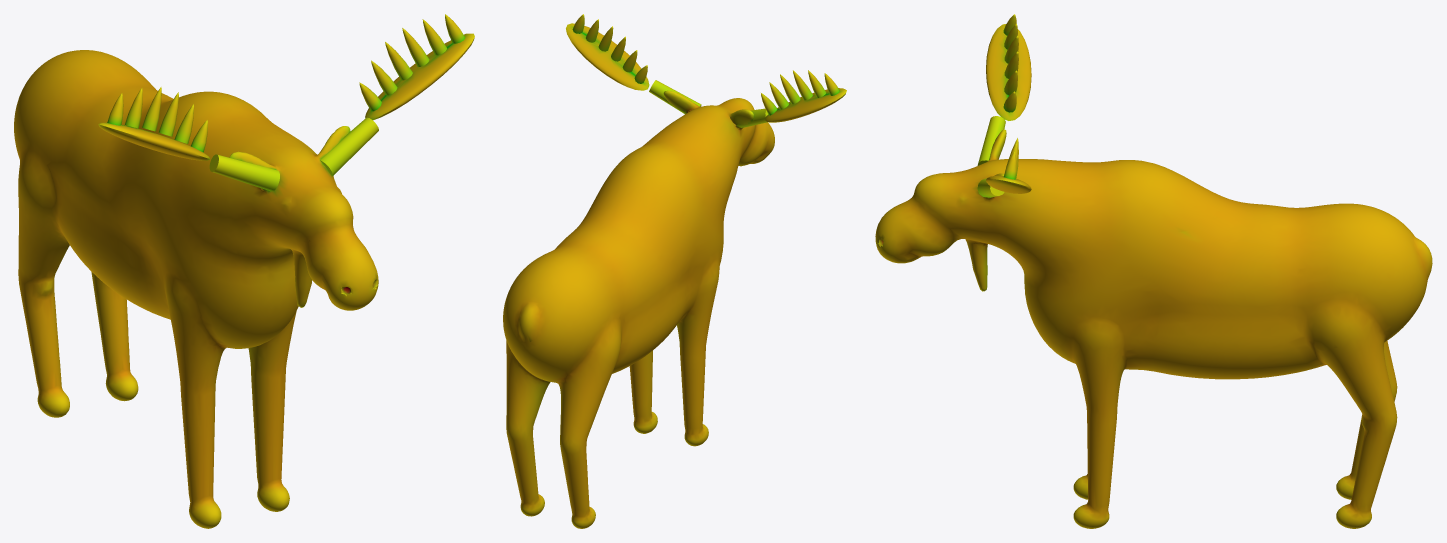
Rendered from elk.glb.
3 views of the same model, side by side, from view 1: azimuth 30°, elevation 25°; view 2: azimuth 150°, elevation 25°; view 3: azimuth 270°, elevation 25° (orthographic). The views are drawn at different scales.
Parts seen in each view (by area): view 1: elk; view 2: elk; view 3: elk.
Boxes of the visible parts, bbox=[...] form: elk: bbox=[14, 14, 474, 528]; elk: bbox=[503, 14, 846, 528]; elk: bbox=[875, 14, 1432, 528].
Bounding box in the file's own units: 2.08 × 2.64 × 3.1.
